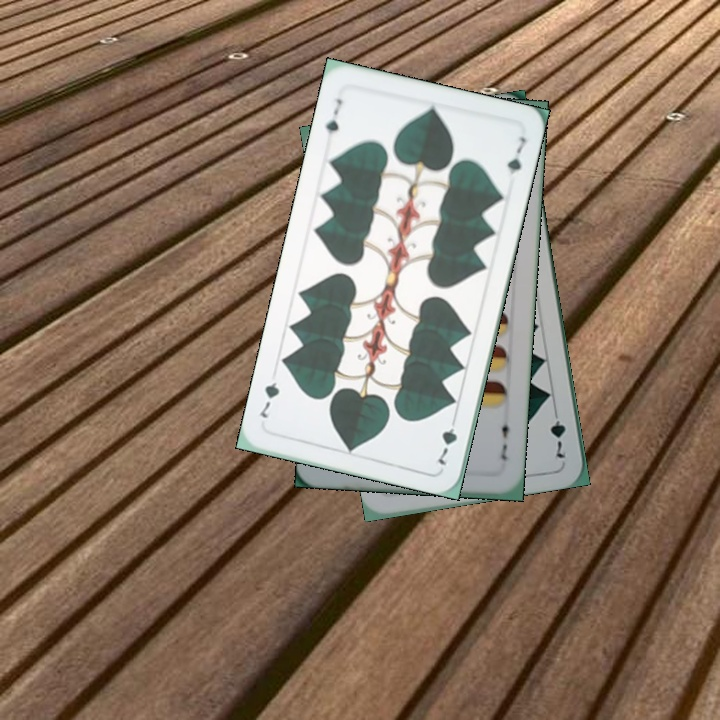E7: (496, 414, 512, 463)
G7: (434, 411, 460, 468), (546, 403, 569, 461), (321, 94, 345, 137)
